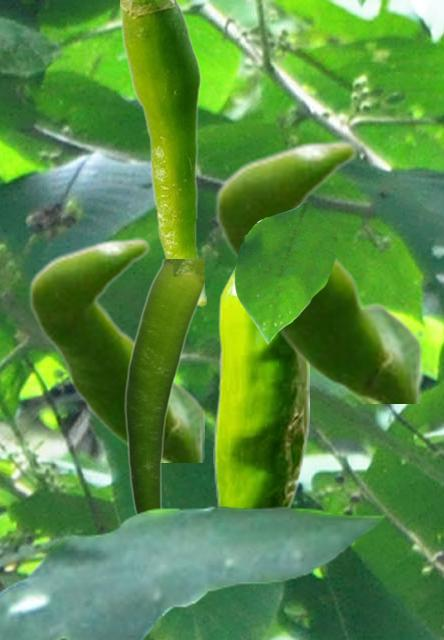green_chili: (214, 139, 420, 402), (28, 237, 203, 461), (120, 0, 205, 305), (213, 261, 308, 506), (124, 259, 203, 512)
